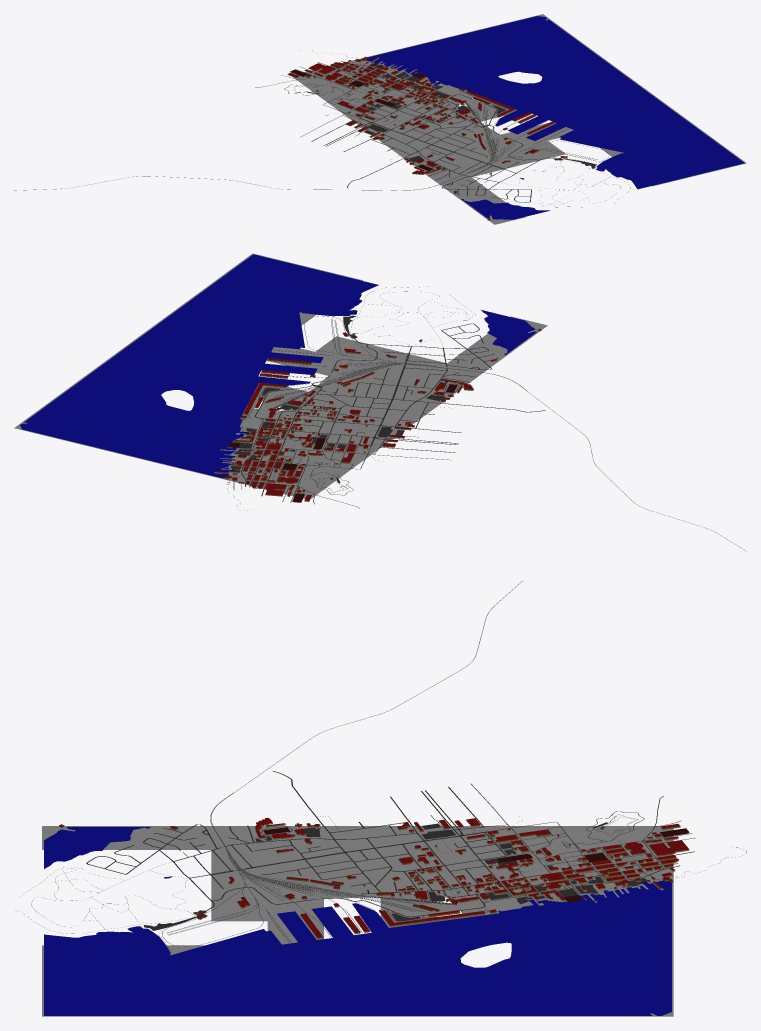
File: map_-63.58-44.62--63.55-44.65.obj
The picture shows the model from 3 angles, top to bottom: view 1: azimuth 30°, elevation 25°; view 2: azimuth 150°, elevation 25°; view 3: azimuth 270°, elevation 25°; orthographic projection. The views are drawn at different scales.
Visible parts, largest first — view 1: Water1326, Water1325, SurfaceArea1566, SurfaceArea1542, SurfaceArea1552, SurfaceArea1554, SurfaceArea1539, SurfaceArea1564, SurfaceArea1546, SurfaceArea1553, SurfaceArea1576, SurfaceArea1540 (+13 smaller); view 2: Water1326, Water1325, SurfaceArea1566, SurfaceArea1539, SurfaceArea1542, SurfaceArea1552, SurfaceArea1546, SurfaceArea1564, SurfaceArea1554, SurfaceArea1553, SurfaceArea1576, SurfaceArea1556 (+13 smaller); view 3: Water1326, Water1325, SurfaceArea1566, SurfaceArea1564, SurfaceArea1576, SurfaceArea1542, SurfaceArea1546, SurfaceArea1554, SurfaceArea1539, SurfaceArea1552, SurfaceArea1553, SurfaceArea1540 (+15 smaller).
Boxes of the visible parts, bbox=[...] form: Water1326: bbox=[366, 16, 744, 189]; Water1325: bbox=[461, 199, 549, 219]; SurfaceArea1566: bbox=[449, 122, 504, 142]; SurfaceArea1542: bbox=[386, 137, 434, 157]; SurfaceArea1552: bbox=[454, 156, 502, 177]; SurfaceArea1554: bbox=[417, 129, 466, 150]; SurfaceArea1539: bbox=[440, 177, 489, 198]; SurfaceArea1564: bbox=[485, 148, 534, 169]; SurfaceArea1546: bbox=[313, 84, 361, 104]; SurfaceArea1553: bbox=[435, 143, 484, 163]; SurfaceArea1576: bbox=[517, 141, 565, 161]; SurfaceArea1540: bbox=[424, 164, 470, 184]; Water1326: bbox=[20, 254, 378, 477]; Water1325: bbox=[481, 310, 536, 354]; SurfaceArea1566: bbox=[310, 372, 367, 400]; SurfaceArea1539: bbox=[447, 347, 504, 371]; SurfaceArea1542: bbox=[384, 394, 440, 418]; SurfaceArea1552: bbox=[389, 354, 445, 378]; SurfaceArea1546: bbox=[300, 457, 355, 481]; SurfaceArea1564: bbox=[352, 345, 409, 369]; SurfaceArea1554: bbox=[347, 385, 404, 409]; SurfaceArea1553: bbox=[368, 370, 425, 394]; SurfaceArea1576: bbox=[315, 336, 372, 360]; SurfaceArea1556: bbox=[304, 416, 361, 441]; Water1326: bbox=[44, 880, 671, 1015]; Water1325: bbox=[44, 827, 150, 868]; SurfaceArea1566: bbox=[312, 873, 380, 899]; SurfaceArea1564: bbox=[211, 873, 267, 897]; SurfaceArea1576: bbox=[211, 897, 267, 921]; SurfaceArea1542: bbox=[324, 826, 380, 849]; SurfaceArea1546: bbox=[549, 826, 605, 849]; SurfaceArea1554: bbox=[324, 850, 380, 873]; SurfaceArea1539: bbox=[155, 826, 211, 849]; SurfaceArea1552: bbox=[211, 850, 267, 873]; SurfaceArea1553: bbox=[267, 850, 323, 873]; SurfaceArea1540: bbox=[211, 826, 267, 849].
Bounding box in the file's own units: 5494 × 122 × 3899.
